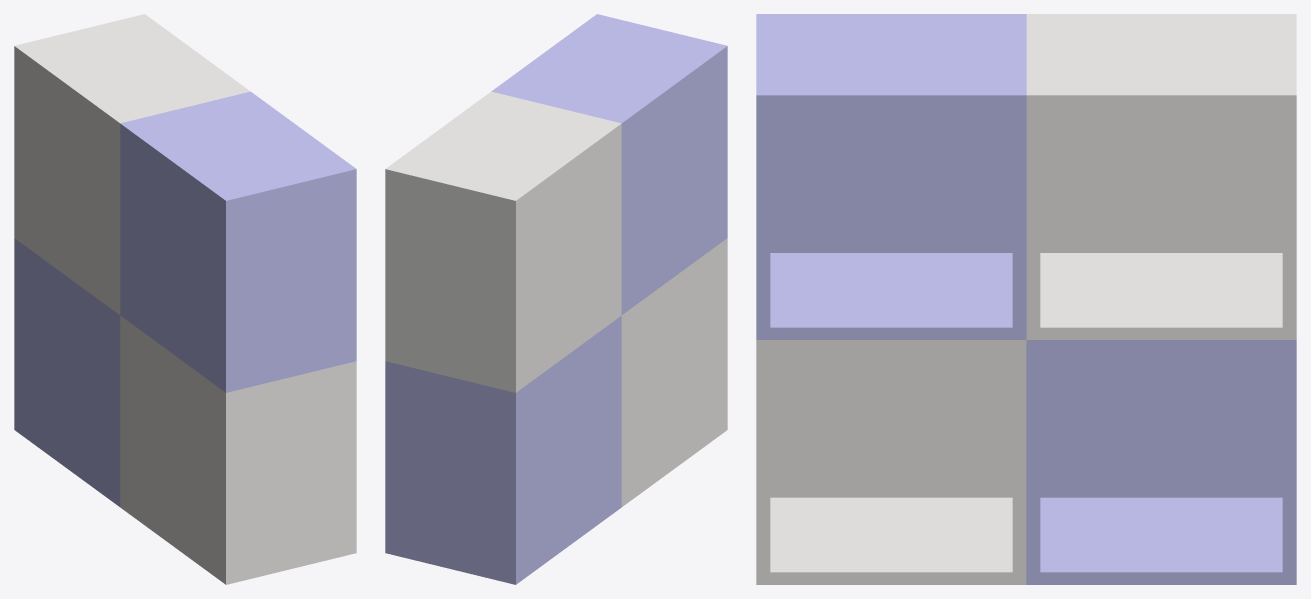
File: cubby.fbx
The picture shows the model from 3 angles, left to right: view 1: azimuth 30°, elevation 25°; view 2: azimuth 150°, elevation 25°; view 3: azimuth 270°, elevation 25°; orthographic projection. The views are drawn at different scales.
Visible parts, largest first — view 1: cubby; view 2: cubby; view 3: cubby.
Boxes of the visible parts, box(x1,y1,x2,y2) form: cubby: box(14, 14, 356, 584); cubby: box(385, 14, 727, 584); cubby: box(756, 14, 1296, 584).
Size of the model in its own units: 200 by 561 by 561.
Materials: 1 (1 with a texture image).
